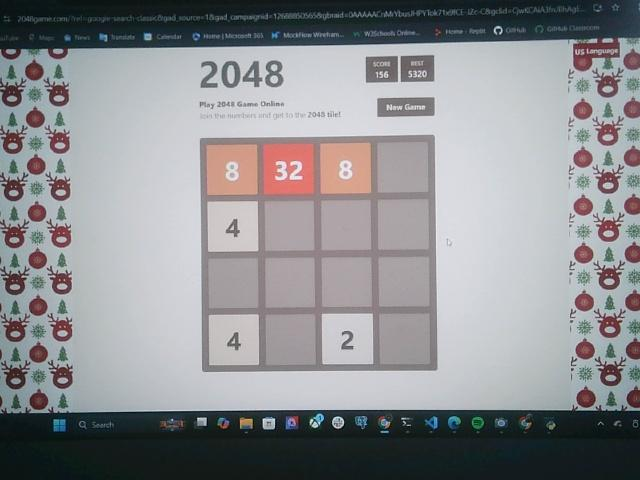best_score_box: (401, 55, 435, 83)
board: (198, 133, 436, 373)
button: (378, 97, 435, 116)
score_box: (366, 56, 397, 83)
tile: (320, 140, 373, 193), (322, 313, 374, 366), (208, 143, 259, 196), (209, 313, 260, 366), (262, 144, 316, 194), (208, 202, 259, 251)
